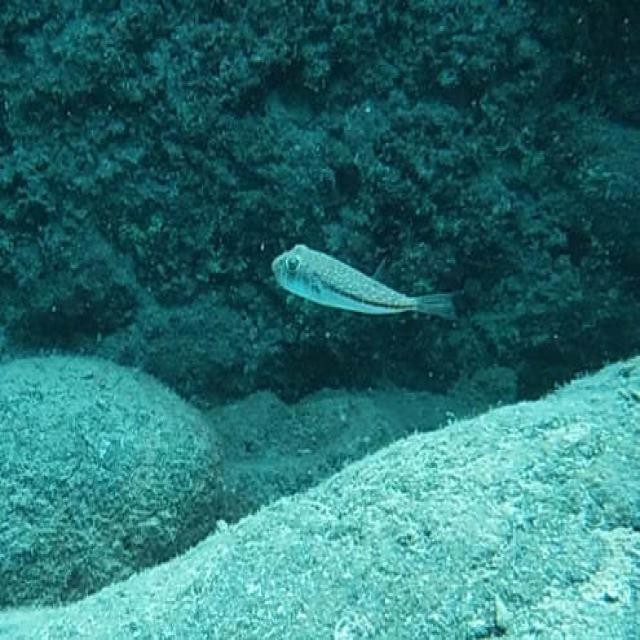Balik: (272, 244, 455, 318)
